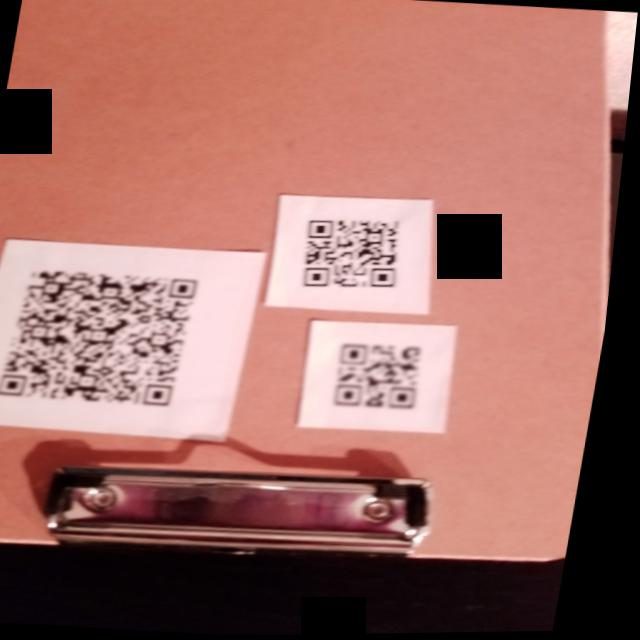QR_CODE: (0, 250, 220, 425), (288, 203, 431, 308), (324, 329, 443, 424)
